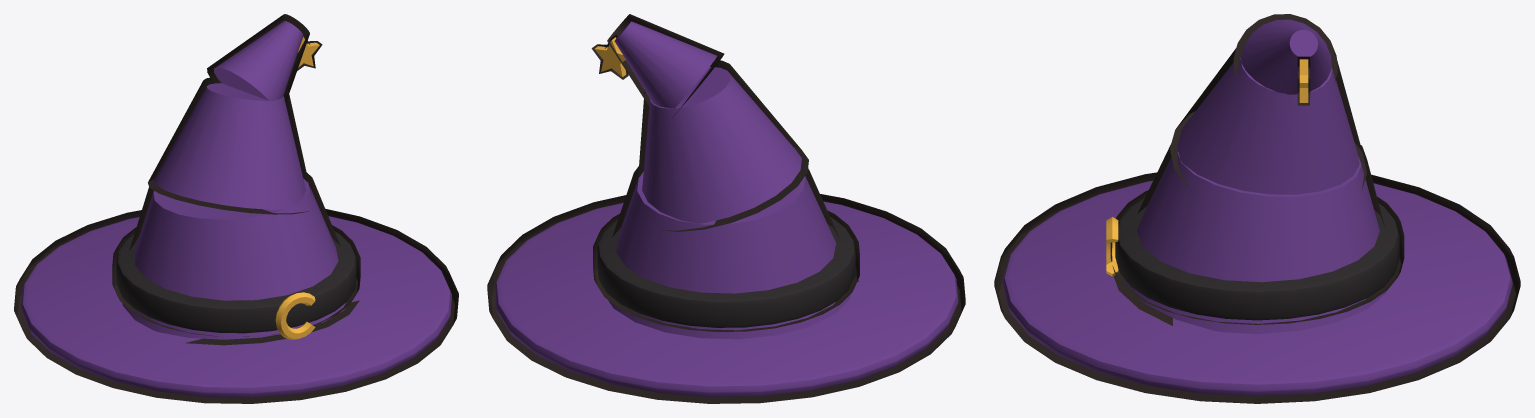
Rendered from hat_witch.fbx.
3 renders of one model, left to right at view 1: azimuth 30°, elevation 25°; view 2: azimuth 150°, elevation 25°; view 3: azimuth 270°, elevation 25°, orthographic. The views are drawn at different scales.
Visible parts, largest first — view 1: hat_witch_C_6B3F8F, hat_witch_Outline, hat_witch_C_2A2628, hat_witch_C_F2B33D; view 2: hat_witch_C_6B3F8F, hat_witch_Outline, hat_witch_C_2A2628, hat_witch_C_F2B33D; view 3: hat_witch_C_6B3F8F, hat_witch_Outline, hat_witch_C_2A2628, hat_witch_C_F2B33D.
Boxes of the visible parts, <box> form: hat_witch_C_6B3F8F: <box>21,21,451,397</box>; hat_witch_Outline: <box>14,14,458,403</box>; hat_witch_C_2A2628: <box>116,231,356,333</box>; hat_witch_C_F2B33D: <box>275,36,319,339</box>; hat_witch_C_6B3F8F: <box>494,21,958,396</box>; hat_witch_Outline: <box>487,14,965,403</box>; hat_witch_C_2A2628: <box>597,217,855,327</box>; hat_witch_C_F2B33D: <box>594,37,626,76</box>; hat_witch_C_6B3F8F: <box>1002,19,1512,396</box>; hat_witch_Outline: <box>994,14,1520,403</box>; hat_witch_C_2A2628: <box>1115,197,1399,320</box>; hat_witch_C_F2B33D: <box>1106,59,1308,276</box>.
Size of the model in its own units: 0.9075 by 0.6021 by 0.9075.
